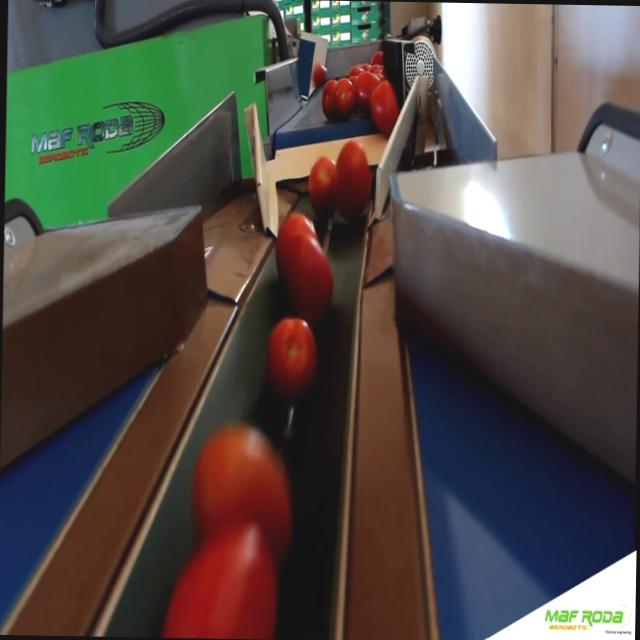Tomato: (187, 413, 301, 550), (153, 526, 283, 640), (274, 214, 338, 308), (270, 313, 321, 402), (332, 135, 378, 216), (307, 150, 342, 218), (368, 77, 400, 136), (317, 78, 337, 117), (338, 78, 356, 118), (313, 57, 328, 85)
